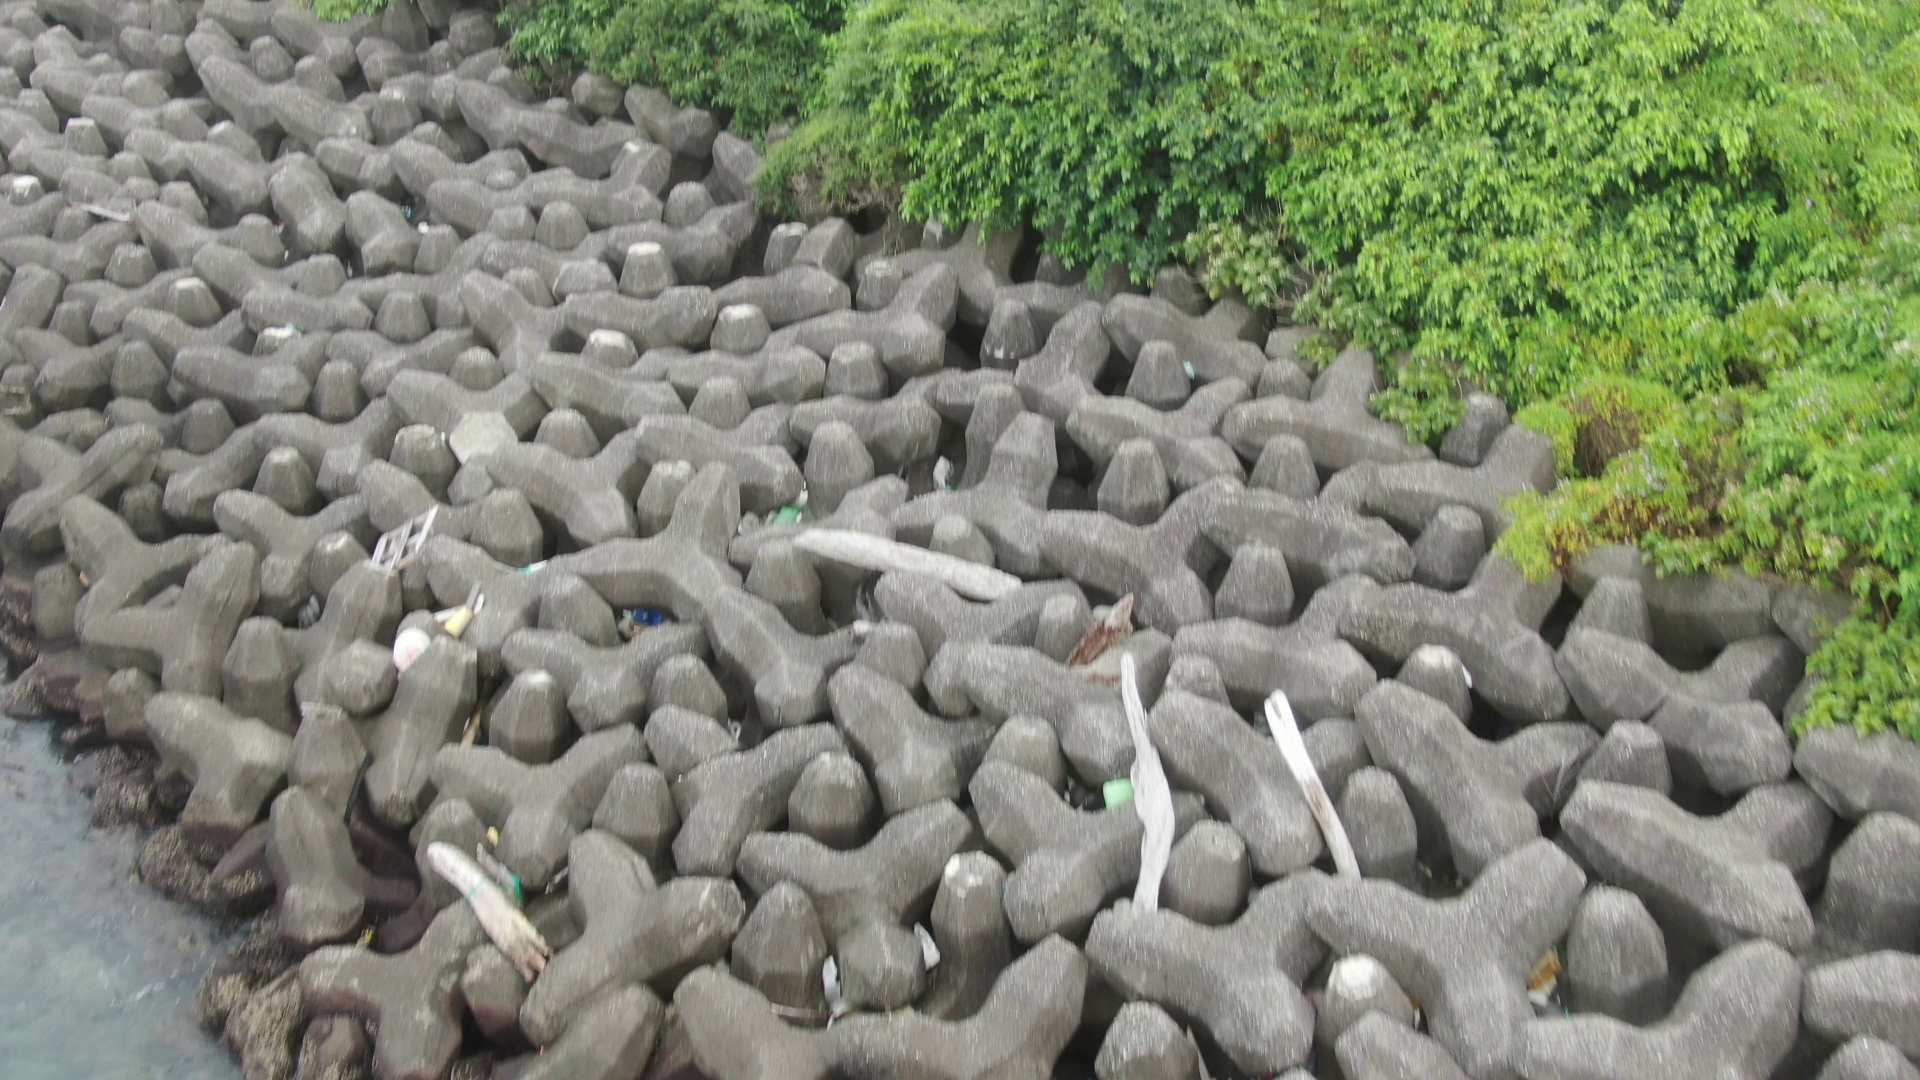garbage: (380, 578, 495, 676), (361, 498, 450, 579), (736, 468, 829, 542), (1513, 927, 1567, 1026), (468, 849, 539, 905), (609, 597, 676, 647), (1098, 771, 1149, 818)
